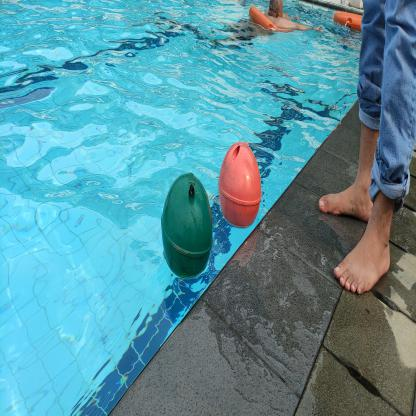green_buoy: (160, 169, 214, 280)
red_buoy: (216, 140, 262, 232)
